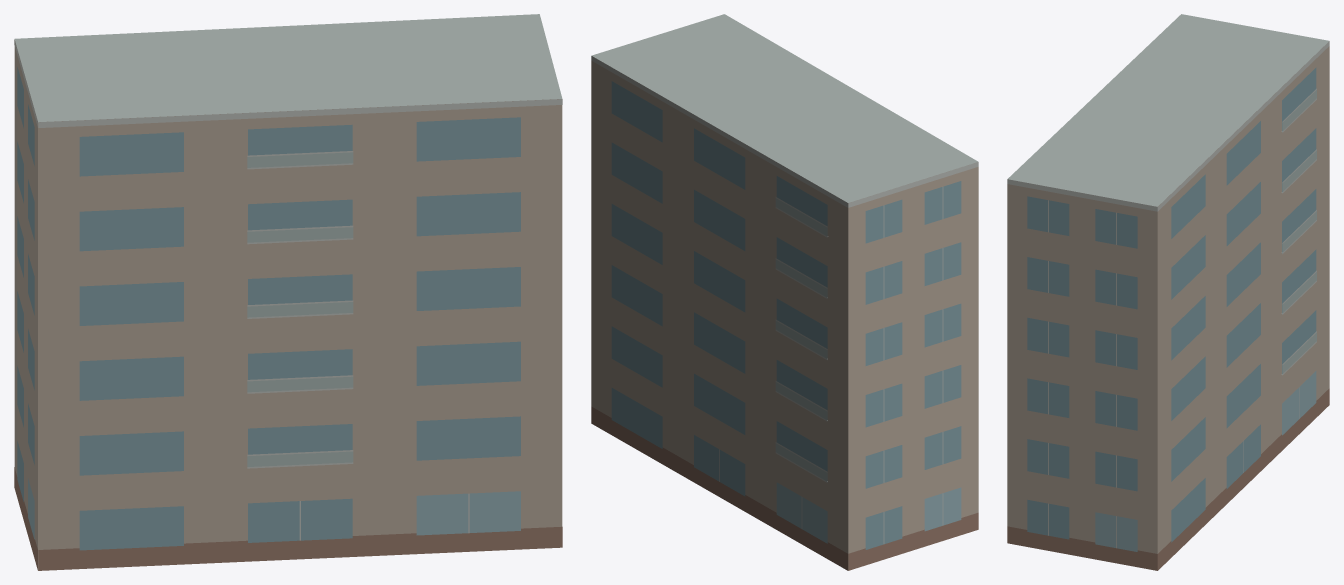
The model's file is survey-upis-32562909.glb.
3 renders of one model, left to right at view 1: azimuth 30°, elevation 25°; view 2: azimuth 150°, elevation 25°; view 3: azimuth 270°, elevation 25°, orthographic. The views are drawn at different scales.
Visible parts, largest first — view 1: survey-upis-32562909.tmp; view 2: survey-upis-32562909.tmp; view 3: survey-upis-32562909.tmp.
Part boxes in pixels (x1,y1,x2,y2): survey-upis-32562909.tmp: (14, 14, 562, 570); survey-upis-32562909.tmp: (591, 14, 978, 570); survey-upis-32562909.tmp: (1007, 14, 1329, 570).
Bounding box in the file's own units: 20.8 × 18.3 × 14.69.
